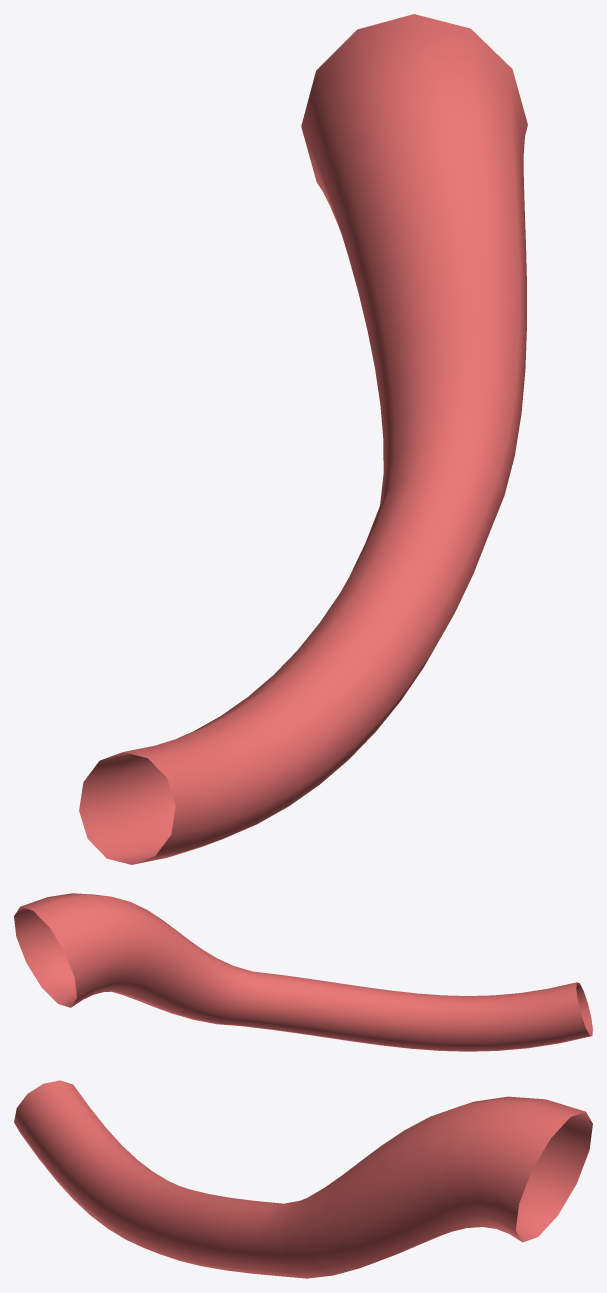
The model's file is Common_hepatic_artery.glb.
The picture shows the model from 3 angles, top to bottom: view 1: azimuth 30°, elevation 25°; view 2: azimuth 150°, elevation 25°; view 3: azimuth 270°, elevation 25°; orthographic projection. The views are drawn at different scales.
Parts seen in each view (by area): view 1: Common_hepatic_artery_BezierCurve.066; view 2: Common_hepatic_artery_BezierCurve.066; view 3: Common_hepatic_artery_BezierCurve.066.
Boxes of the visible parts, <box> form: Common_hepatic_artery_BezierCurve.066: <box>79,14,527,864</box>; Common_hepatic_artery_BezierCurve.066: <box>14,893,592,1051</box>; Common_hepatic_artery_BezierCurve.066: <box>14,1080,592,1278</box>.
Bounding box in the file's own units: 0.0323 × 0.0162 × 0.0318.
